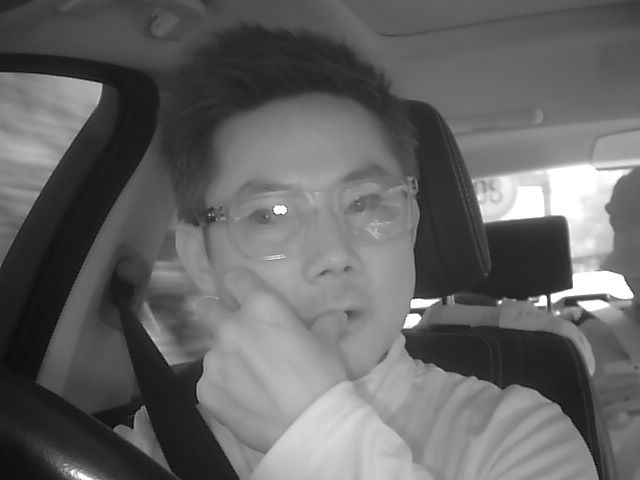hand: (190, 267, 349, 438)
